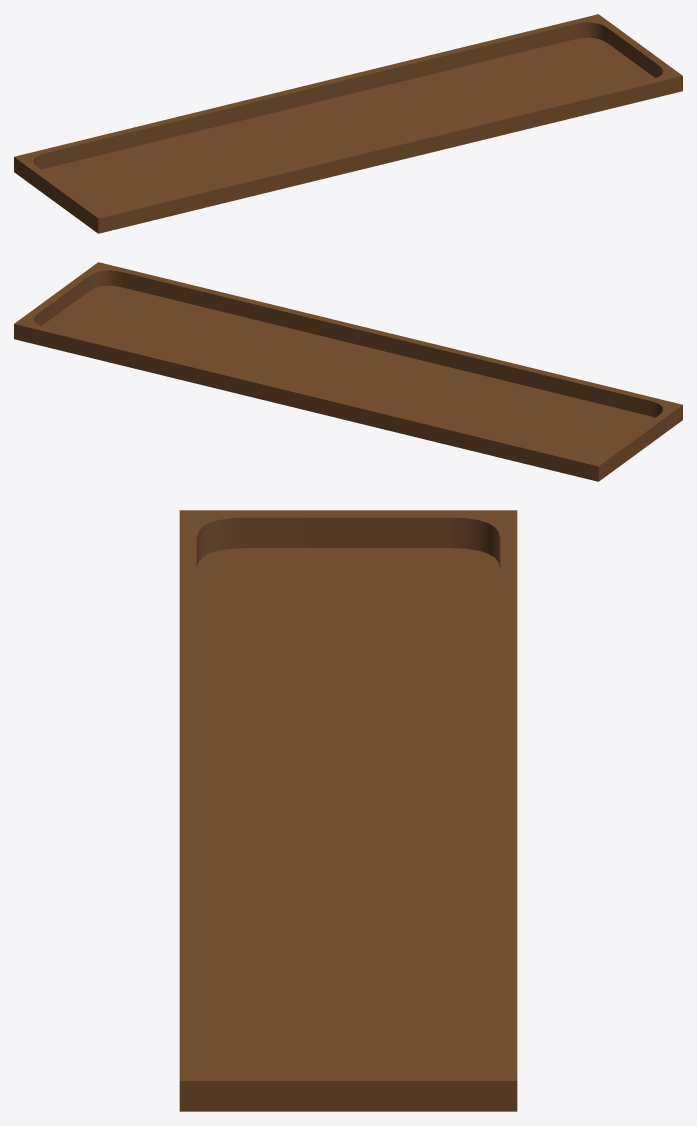
File: Ceiling_B_4x1m_B.FBX
3 renders of one model, top to bottom at view 1: azimuth 30°, elevation 25°; view 2: azimuth 150°, elevation 25°; view 3: azimuth 270°, elevation 25°, orthographic. The views are drawn at different scales.
Parts seen in each view (by area): view 1: Ceiling_B_4x1m_B; view 2: Ceiling_B_4x1m_B; view 3: Ceiling_B_4x1m_B.
Part boxes in pixels (x1,y1,x2,y2): Ceiling_B_4x1m_B: (14, 14, 682, 233); Ceiling_B_4x1m_B: (14, 262, 682, 481); Ceiling_B_4x1m_B: (179, 510, 517, 1111).
Bounding box in the file's own units: 400 × 10 × 100.
